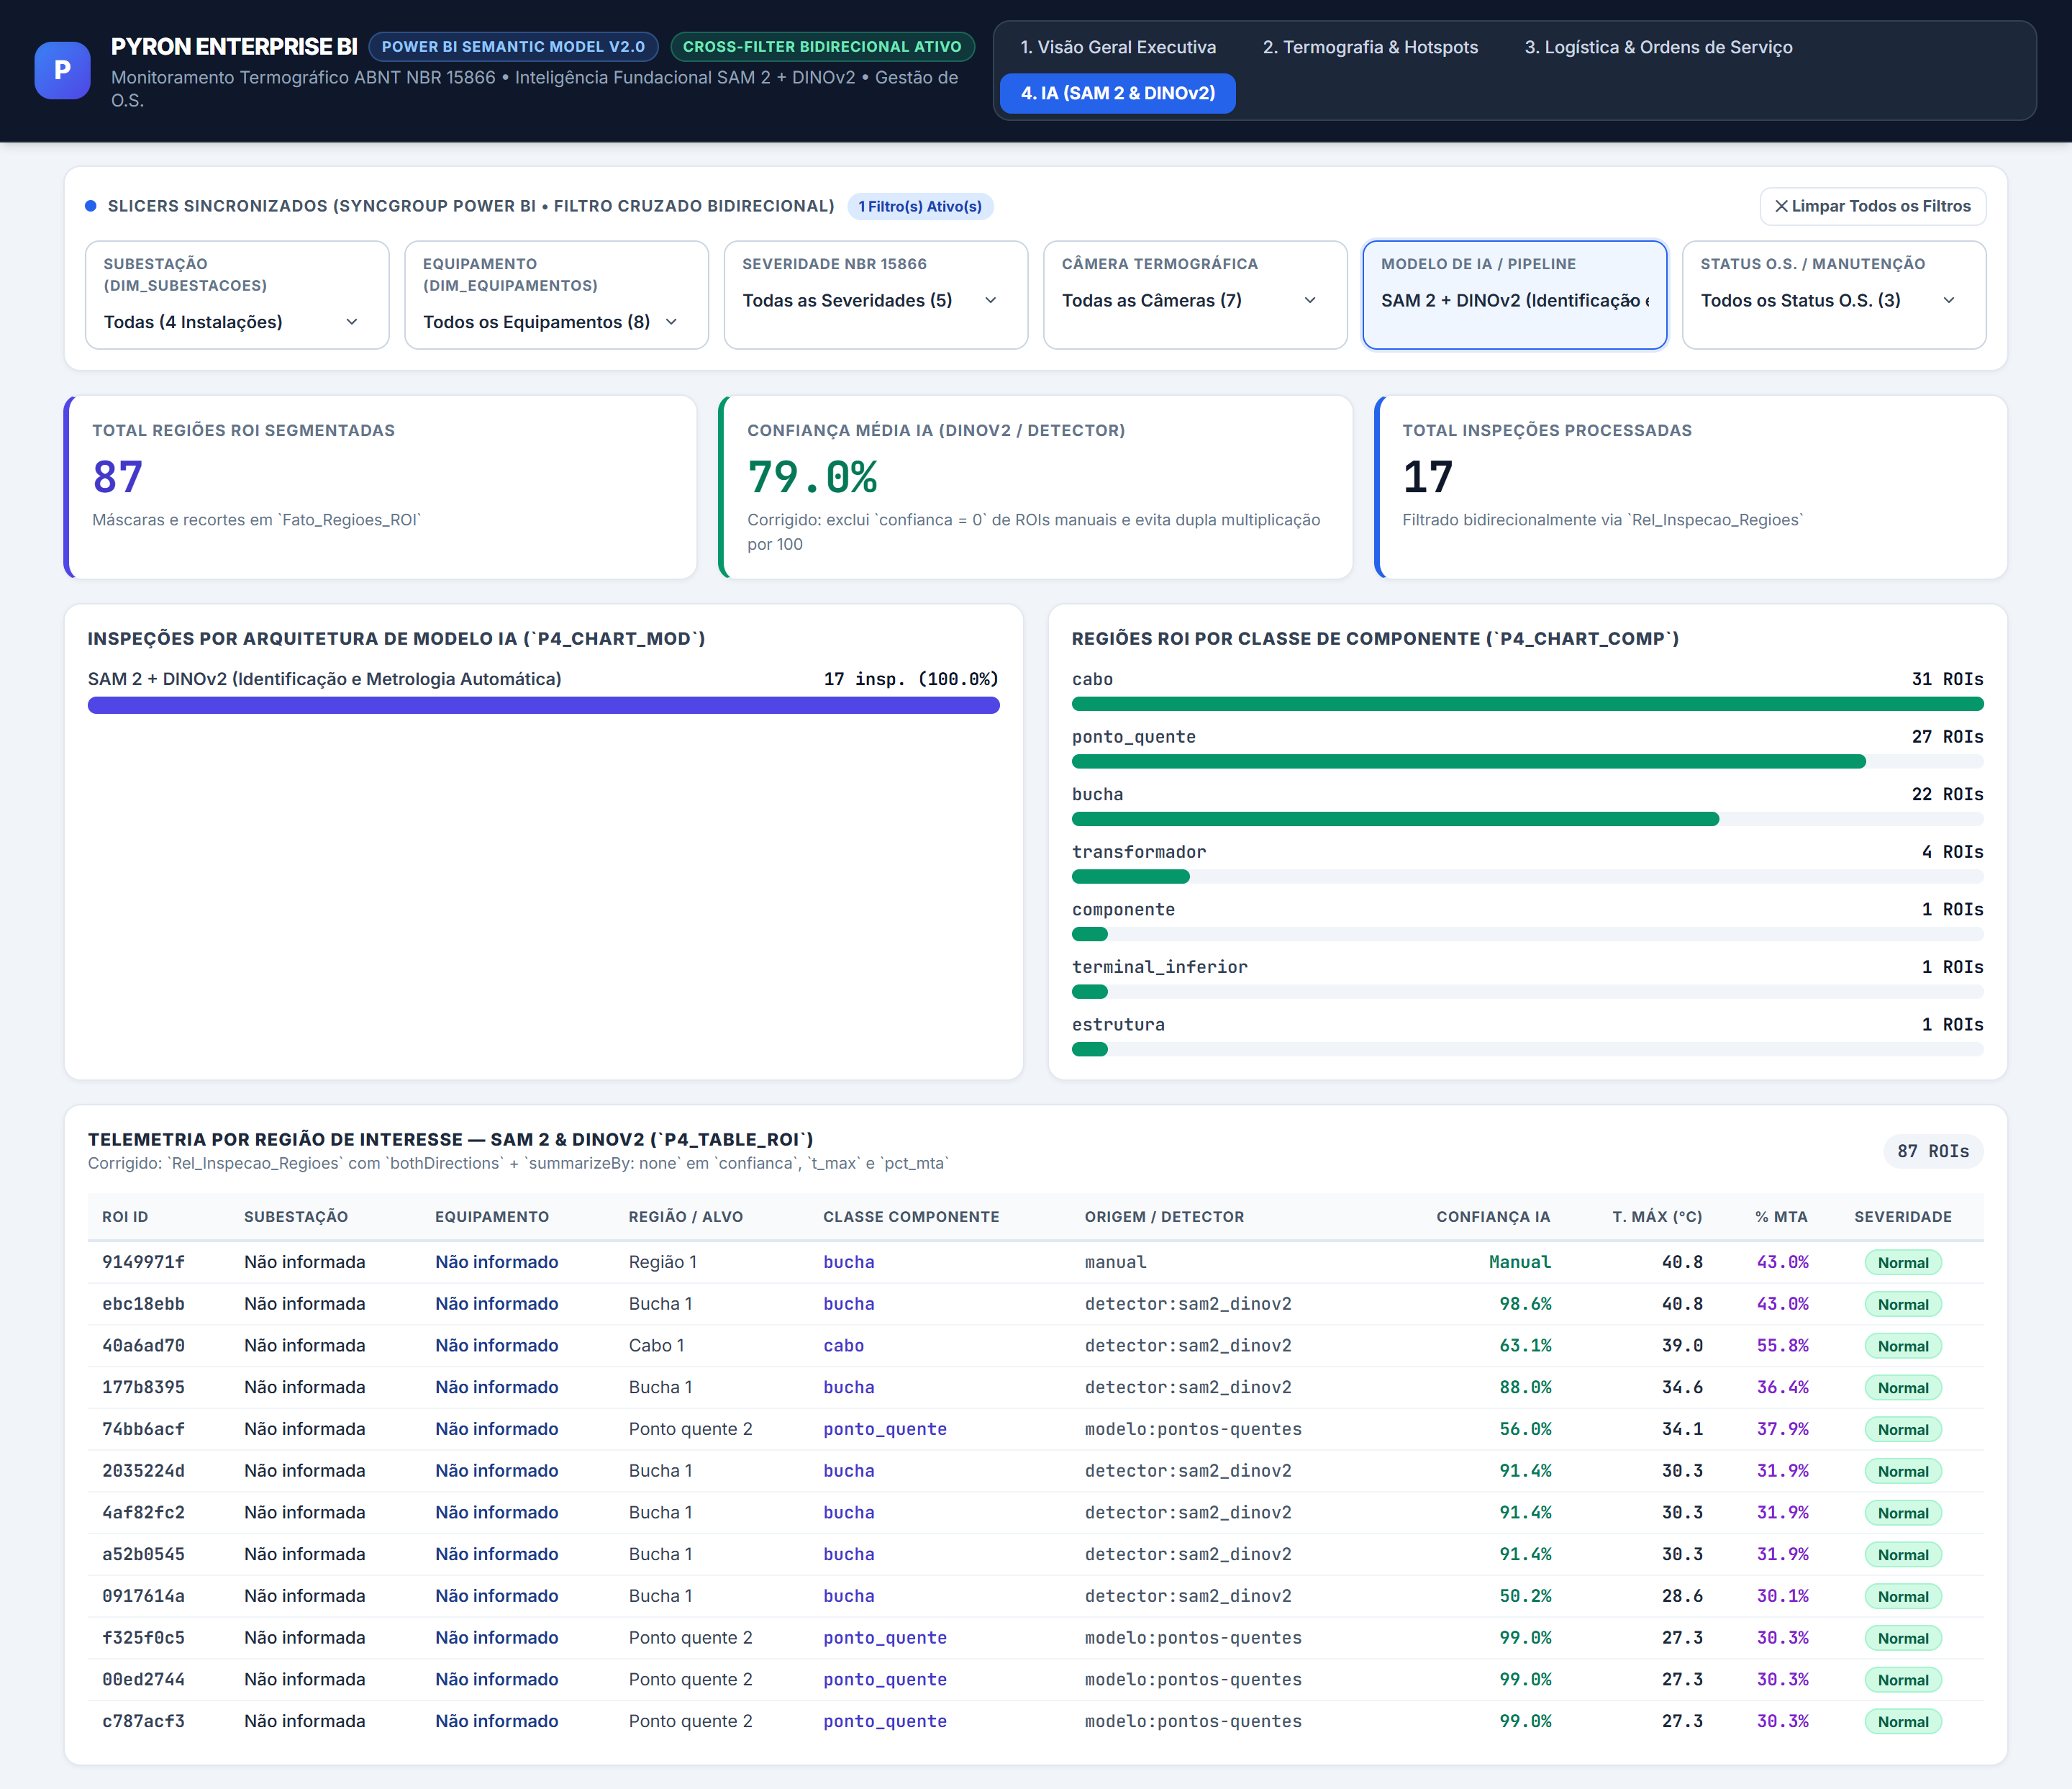

The page's visual inventory and layout, read from the dashboard file:
{"tool":"powerbi","page":{"name":"4. IA (SAM 2 & DINOv2)","canvas":[1280,720],"ordinal":3},"visuals":[{"type":"card","fields":{"Values":["_Medidas.Total Regiões ROI"]},"box":[20,15,195,110],"z":100},{"type":"card","fields":{"Values":["_Medidas.Confiança Média IA"]},"box":[225,15,195,110],"z":200},{"type":"card","fields":{"Values":["_Medidas.Total Inspeções"]},"box":[430,15,195,110],"z":300},{"type":"slicer","fields":{"Values":["Dim_Subestacoes.instalacao"]},"box":[640,15,200,110],"z":350},{"type":"slicer","fields":{"Values":["Fato_Inspecoes.modelo"]},"box":[850,15,195,110],"z":380},{"type":"slicer","fields":{"Values":["Fato_Regioes_ROI.classe_componente"]},"box":[1055,15,205,110],"z":390},{"type":"clusteredColumnChart","fields":{"Category":["Fato_Inspecoes.modelo"],"Y":["_Medidas.Total Inspeções"]},"box":[20,140,610,260],"z":400},{"type":"clusteredBarChart","fields":{"Category":["Fato_Regioes_ROI.classe_componente"],"Y":["_Medidas.Total Regiões ROI"]},"box":[650,140,610,260],"z":500},{"type":"tableEx","fields":{"Values":["Fato_Regioes_ROI.regiao_id","Fato_Regioes_ROI.instalacao","Fato_Regioes_ROI.equipamento","Fato_Regioes_ROI.regiao_nome","Fato_Regioes_ROI.classe_componente","Fato_Regioes_ROI.origem","Fato_Regioes_ROI.confianca","Fato_Regioes_ROI.t_max","Fato_Regioes_ROI.pct_mta","Fato_Regioes_ROI.severidade"]},"box":[20,415,1240,285],"z":600}]}

Visuals, with their boxes on the page's 1280x720 design canvas (x1, y1, x2, y2). These are canvas units, not pixel positions in the 2072x1789 screenshot, which may show the page scaled, cropped or inside an application window:
card - _Medidas.Total Regiões ROI: pyautogui.locateOnScreen(20, 15, 215, 125)
card - _Medidas.Confiança Média IA: pyautogui.locateOnScreen(225, 15, 420, 125)
card - _Medidas.Total Inspeções: pyautogui.locateOnScreen(430, 15, 625, 125)
slicer - Dim_Subestacoes.instalacao: pyautogui.locateOnScreen(640, 15, 840, 125)
slicer - Fato_Inspecoes.modelo: pyautogui.locateOnScreen(850, 15, 1045, 125)
slicer - Fato_Regioes_ROI.classe_componente: pyautogui.locateOnScreen(1055, 15, 1260, 125)
clusteredColumnChart - Fato_Inspecoes.modelo x _Medidas.Total Inspeções: pyautogui.locateOnScreen(20, 140, 630, 400)
clusteredBarChart - Fato_Regioes_ROI.classe_componente x _Medidas.Total Regiões ROI: pyautogui.locateOnScreen(650, 140, 1260, 400)
tableEx - Fato_Regioes_ROI.regiao_id x Fato_Regioes_ROI.instalacao: pyautogui.locateOnScreen(20, 415, 1260, 700)
